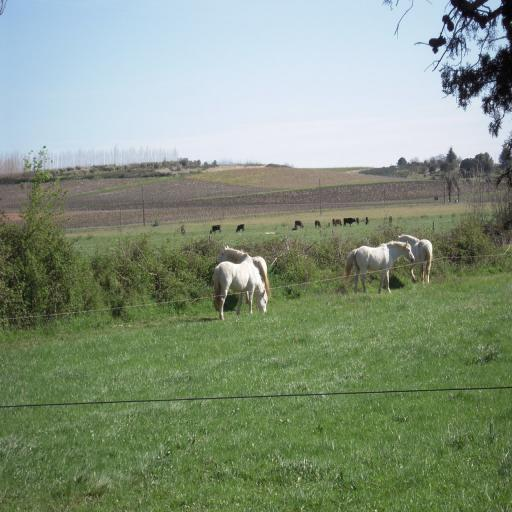horse: (344, 242, 415, 296), (212, 256, 268, 322), (213, 246, 270, 306), (398, 234, 434, 284)
